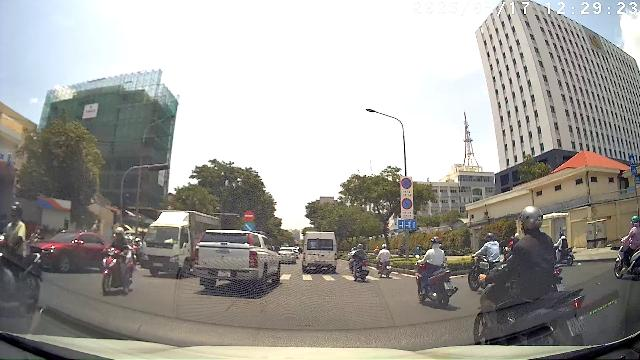130-cam-dung-va-do-xe: (401, 178, 412, 189)
131a-cam-do-xe: (402, 198, 413, 210)
